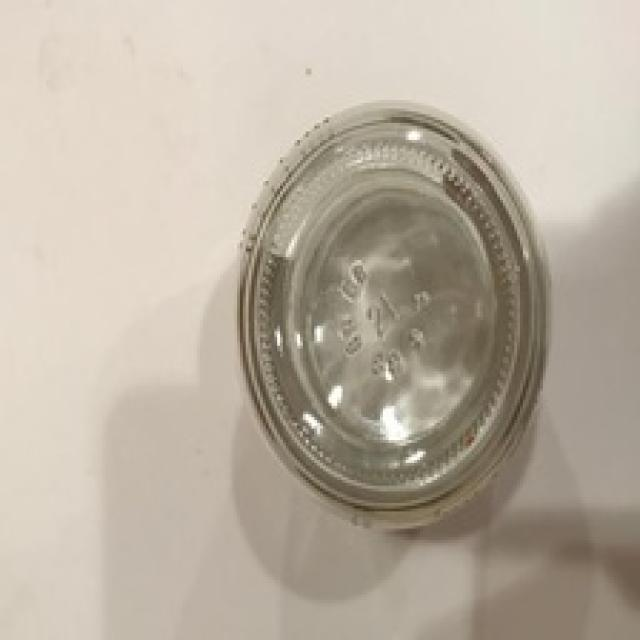Glass: (232, 100, 550, 533)
